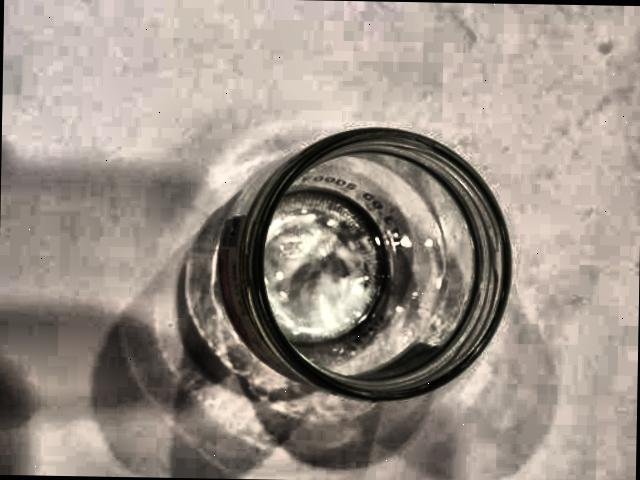Almennt: (169, 98, 525, 417)
